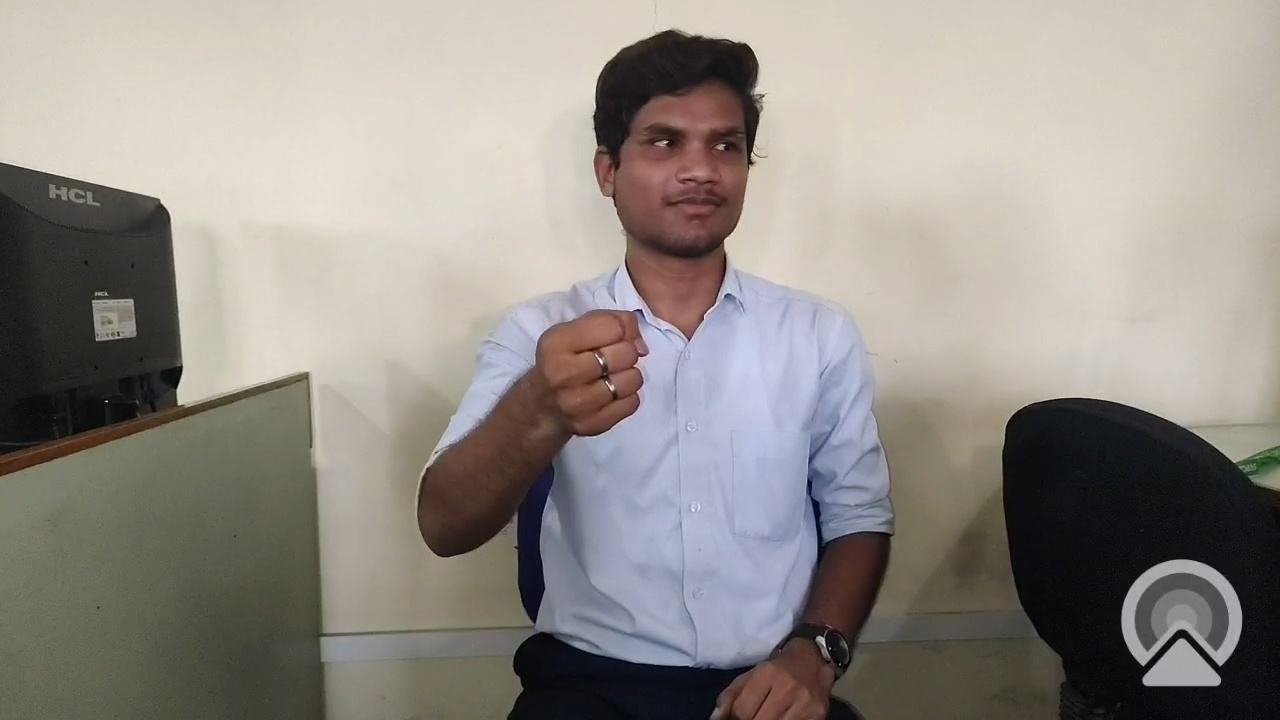Yes: (493, 279, 669, 481)
